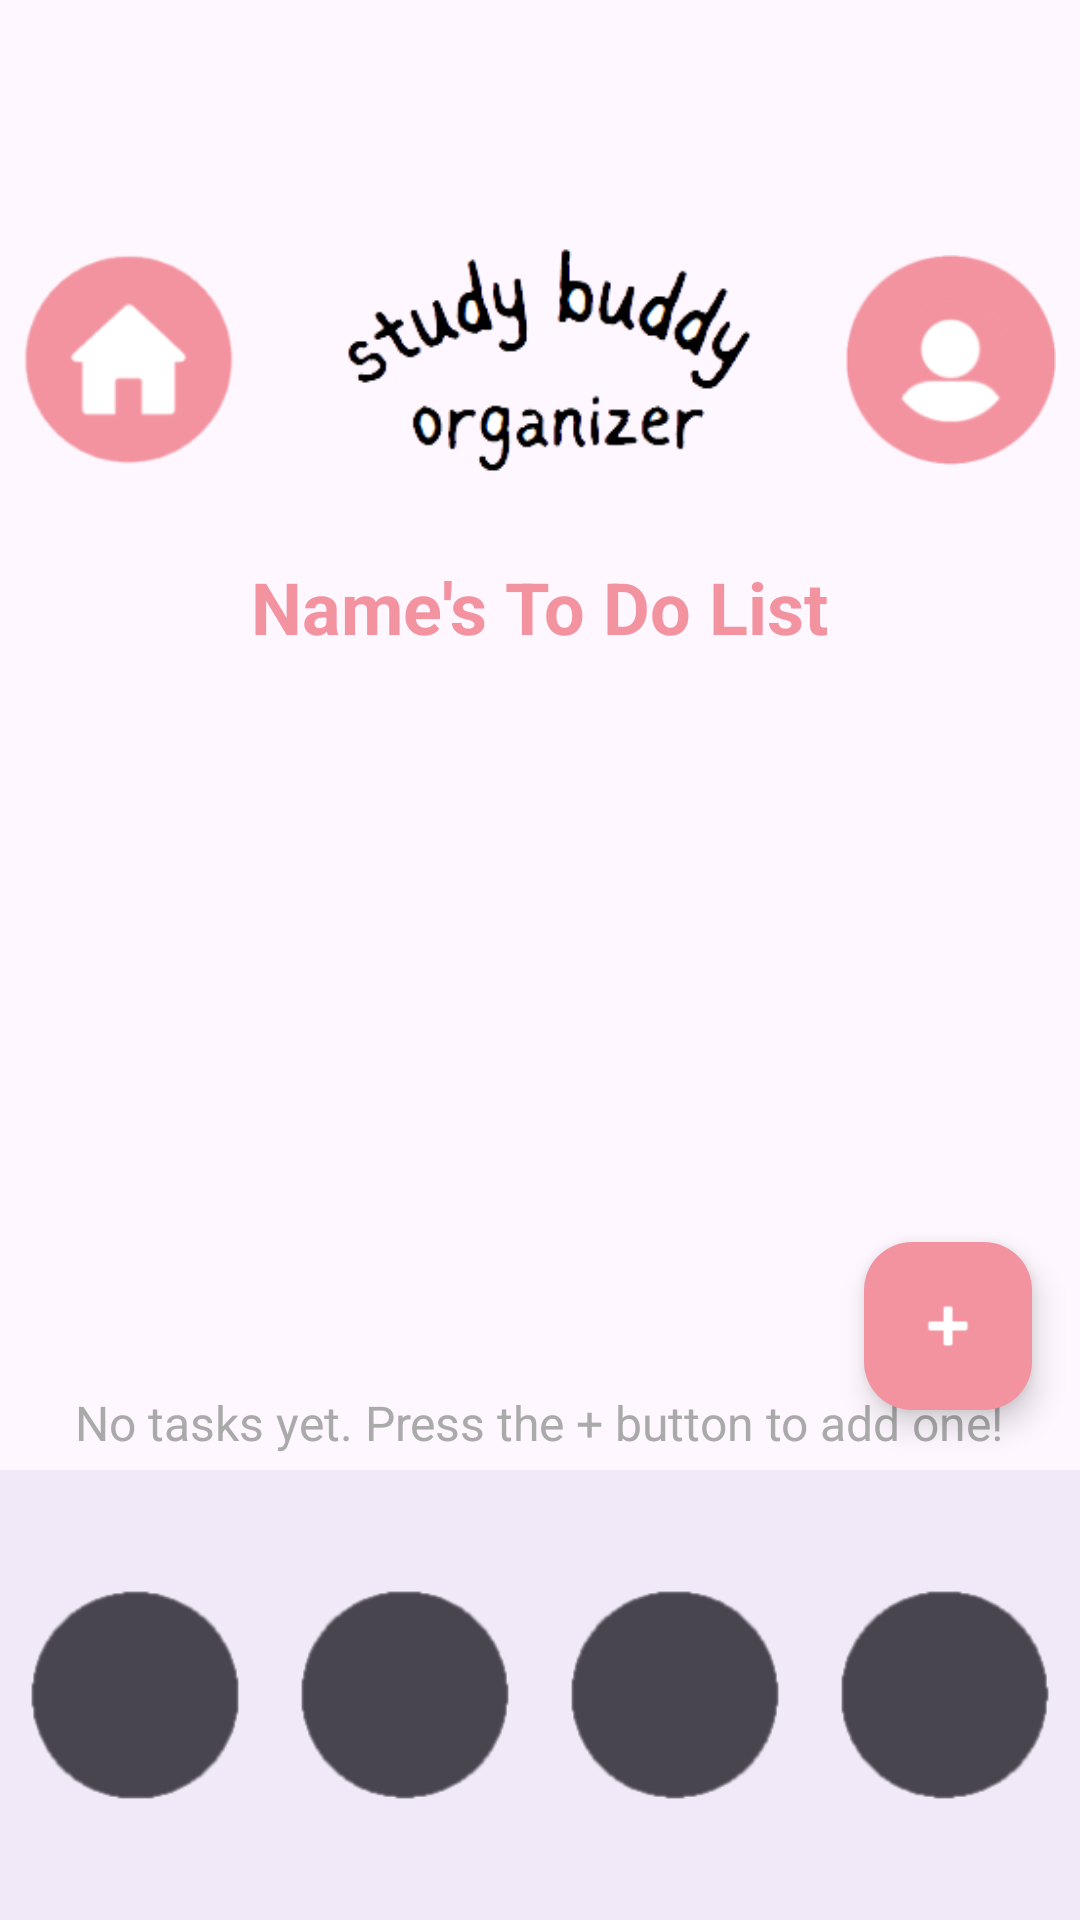

Icon bounding boxes for this 1080x1920 phone screenshot, format (x1, y1, x2, y2):
Add Task: (864, 1242, 1032, 1410)
Home Button: (25, 256, 232, 463)
Profile: (846, 255, 1056, 465)
